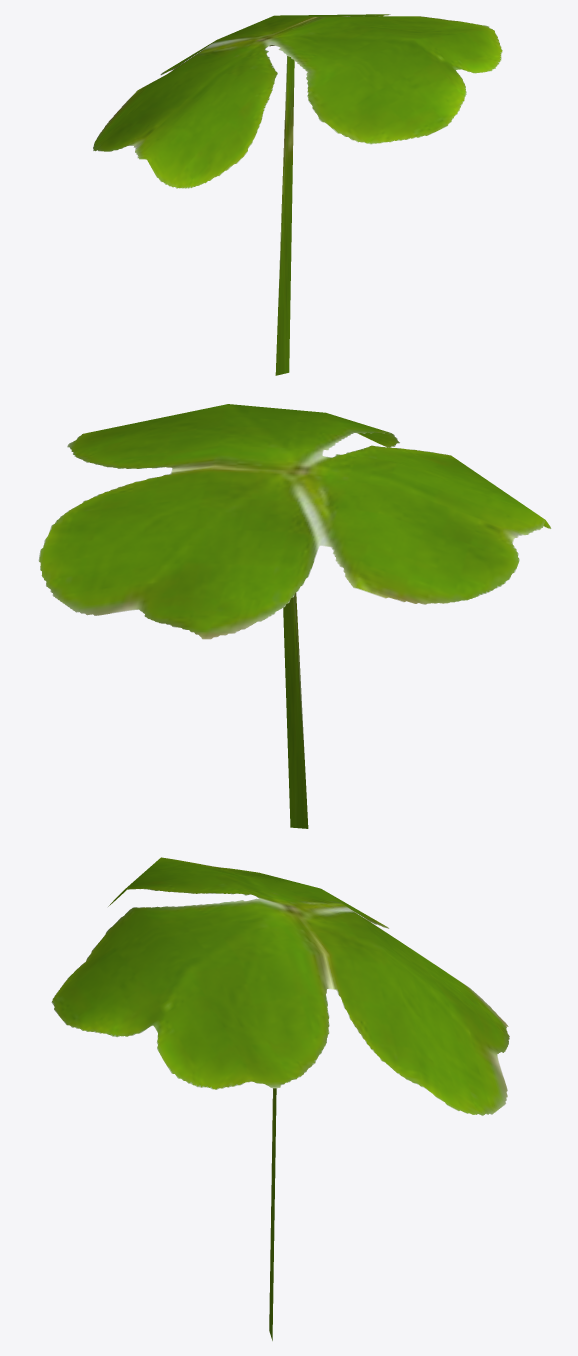
Rendered from clover.fbx.
The picture shows the model from 3 angles, top to bottom: view 1: azimuth 30°, elevation 25°; view 2: azimuth 150°, elevation 25°; view 3: azimuth 270°, elevation 25°; orthographic projection. The views are drawn at different scales.
Visible parts, largest first — view 1: clover_1; view 2: clover_1; view 3: clover_1.
Part boxes in pixels (x1=…): clover_1: x1=93, y1=14, x2=502, y2=375; clover_1: x1=38, y1=404, x2=551, y2=828; clover_1: x1=51, y1=857, x2=509, y2=1340.
Bounding box in the file's own units: 143 × 102 × 118.
Materials: 1 (1 with a texture image).
